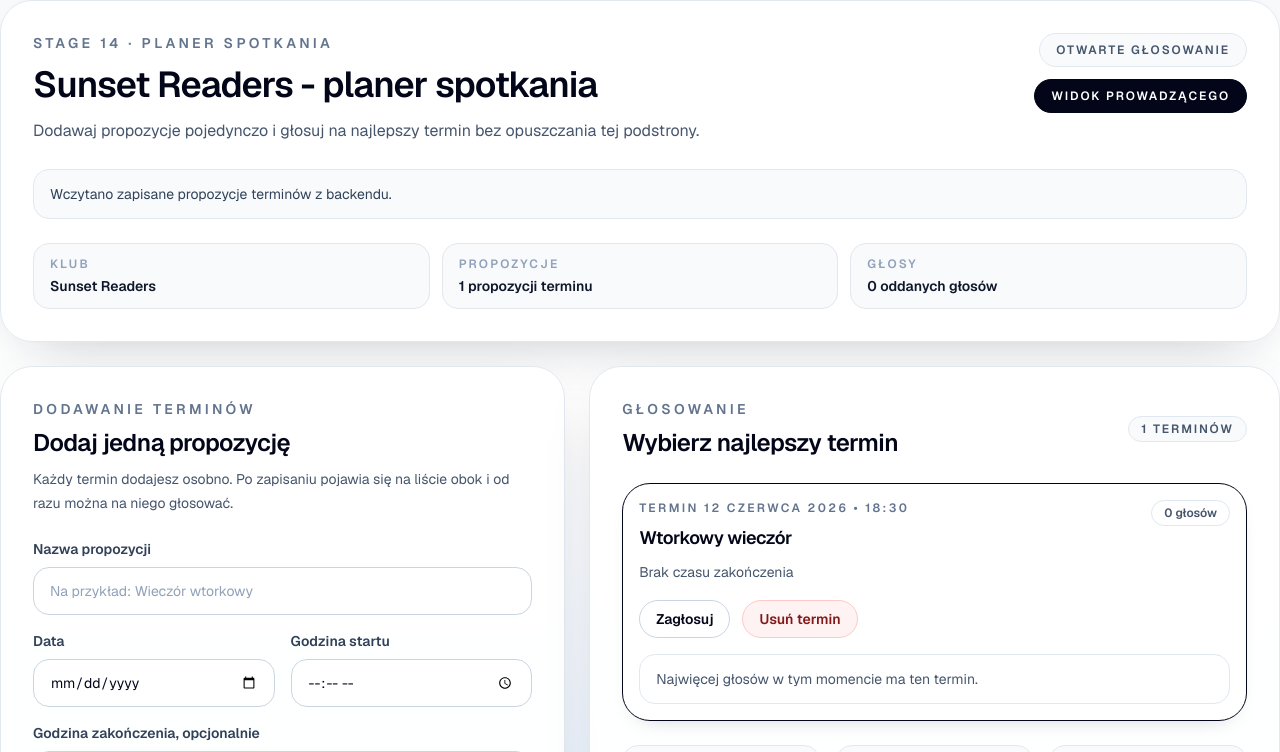
Test: MeetingPlannerWorkspace › votes on a slot through the backend
Click the button with aria-label "Zagłosuj na Wtorkowy wieczór" at [685, 619], box [639, 600, 730, 638]
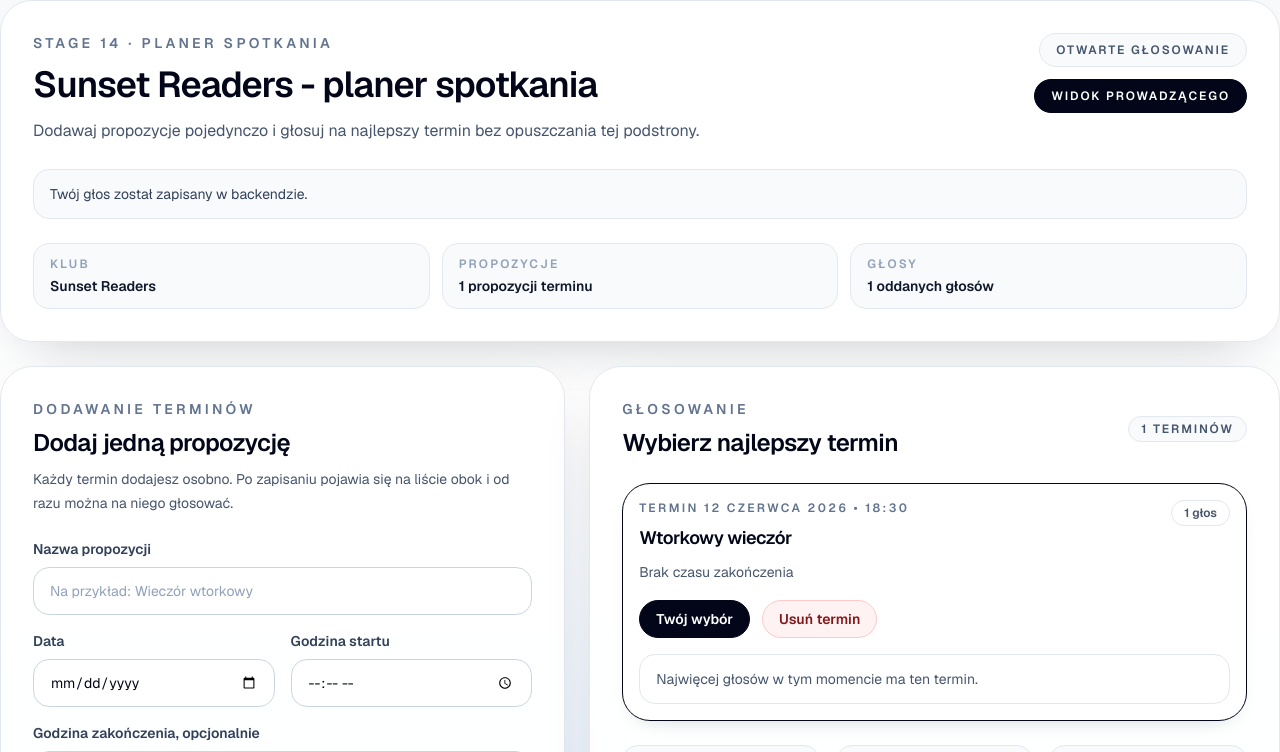
expect the button "Twój wybór" is shown: met, box [639, 600, 750, 638]
expect the text "1 głos" is shown: met, box [1171, 500, 1230, 526]
